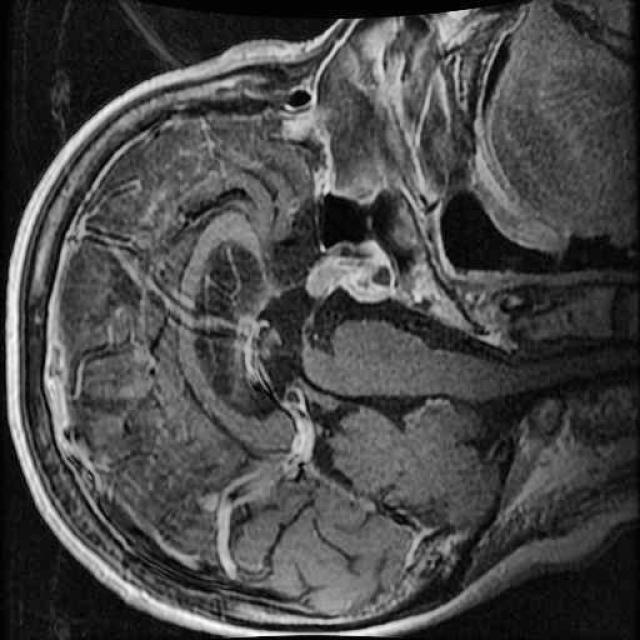Tumor: (294, 216, 402, 319)
